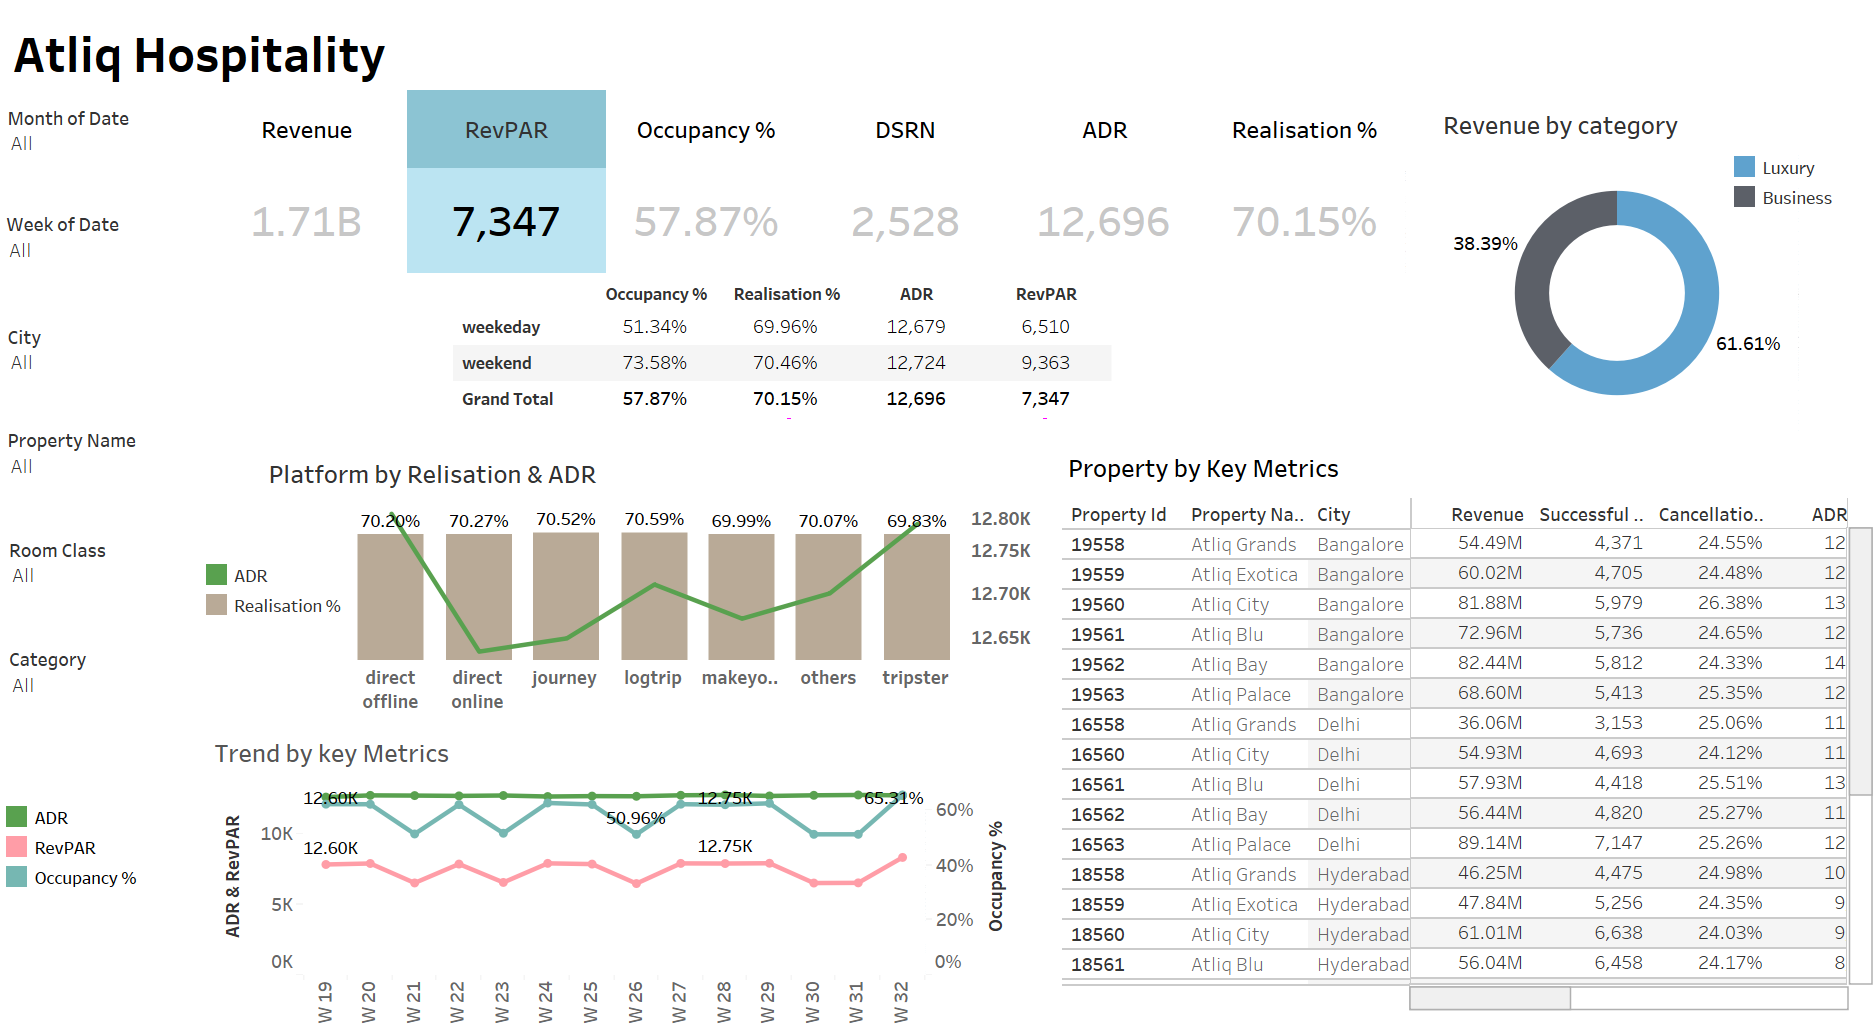

What the dashboard file says about the page in this screenshot:
{"tool":"tableau","page":{"name":"Dashboard 1","canvas":[1250,690],"ordinal":0},"visuals":[{"type":"text","box":[6,7,428,56]},{"type":"worksheet","title":"KPI","mark":"Automatic","box":[138,60,798,122]},{"type":"worksheet","title":"Revenue by category","mark":"Pie","rows":["Calculation_1427078170288148484","Calculation_1427078170288148484"],"box":[958,66,240,221]},{"type":"filter","title":"KPI","param":"[federated.1jd8yl60bhj12w106quqs1khw35i].[mn:date:ok]","box":[4.7,68.6,126.4,65.1]},{"type":"legend","title":"Revenue by category","param":"[federated.1jd8yl60bhj12w106quqs1khw35i].[none:category:nk]","box":[1153,101,80,69]},{"type":"filter","title":"KPI","param":"[federated.1jd8yl60bhj12w106quqs1khw35i].[wk:date:ok]","box":[3.5,139.7,127.6,55.6]},{"type":"worksheet","title":"Key Metrics - Day type","mark":"Text","rows":["day_type"],"box":[302,186,439,92]},{"type":"filter","title":"KPI","param":"[federated.1jd8yl60bhj12w106quqs1khw35i].[none:city:nk]","box":[4.7,215.4,127.6,50.9]},{"type":"filter","title":"KPI","param":"[federated.1jd8yl60bhj12w106quqs1khw35i].[none:property_name:nk]","box":[4.7,284,126.4,65.1]},{"type":"worksheet","title":"Property by Key Metrics","mark":"Automatic","rows":["property_id","property_name","city"],"box":[708,295,541,379]},{"type":"worksheet","title":"Platform by Relisation & ADR","mark":"Automatic","rows":["Calculation_1532912754822131717","Calculation_1532912754799603716"],"cols":["booking_platform"],"box":[175,299,521,181]},{"type":"filter","title":"KPI","param":"[federated.1jd8yl60bhj12w106quqs1khw35i].[none:room_class:nk]","box":[5.9,357.4,125.2,61.5]},{"type":"legend","title":"Platform by Relisation & ADR","param":"[federated.1jd8yl60bhj12w106quqs1khw35i].[:Measure Names]","box":[134,373,103,50]},{"type":"filter","title":"KPI","param":"[federated.1jd8yl60bhj12w106quqs1khw35i].[none:category:nk]","box":[5.9,429.6,125.2,68.6]},{"type":"worksheet","title":"Trend by key Metrics","mark":"Line","rows":["Calculation_1000925048500154371"],"cols":["week no"],"box":[139,485,540,204]},{"type":"legend","title":"Trend by key Metrics","param":"[federated.1jd8yl60bhj12w106quqs1khw35i].[:Measure Names]","box":[1,534,140,76]}]}

Visuals, with their boxes in screenshot pixels (x1, y1, x2, y2), scaled from the page's 1250x690 canvas onto the 1875x1035 screenshot:
text: box=[9, 10, 651, 94]
"KPI" worksheet: box=[207, 90, 1404, 273]
"Revenue by category" worksheet (Pie marks): box=[1437, 99, 1797, 430]
"KPI" filter: box=[7, 103, 197, 201]
"Revenue by category" legend: box=[1730, 152, 1850, 255]
"KPI" filter: box=[5, 210, 197, 293]
"Key Metrics - Day type" worksheet (Text marks): box=[453, 279, 1112, 417]
"KPI" filter: box=[7, 323, 198, 399]
"KPI" filter: box=[7, 426, 197, 524]
"Property by Key Metrics" worksheet: box=[1062, 442, 1874, 1011]
"Platform by Relisation & ADR" worksheet: box=[262, 448, 1044, 720]
"KPI" filter: box=[9, 536, 197, 628]
"Platform by Relisation & ADR" legend: box=[201, 560, 356, 634]
"KPI" filter: box=[9, 644, 197, 747]
"Trend by key Metrics" worksheet (Line marks): box=[208, 728, 1018, 1034]
"Trend by key Metrics" legend: box=[2, 801, 212, 915]
